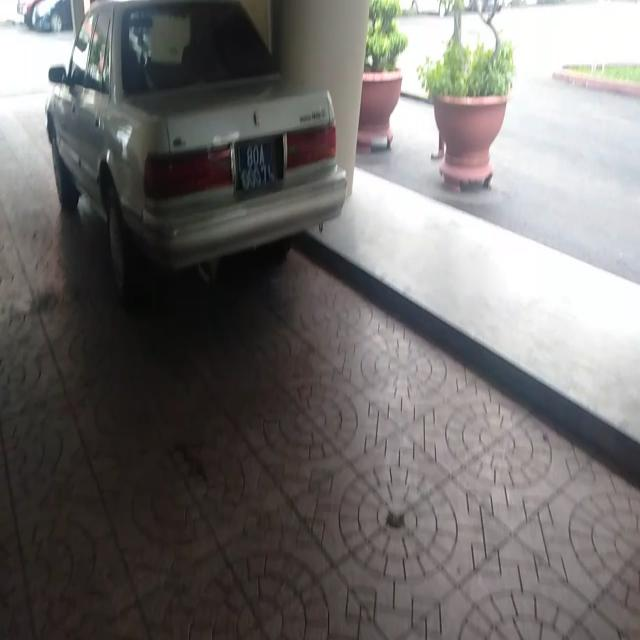bien_xanh: (240, 129, 282, 196)
